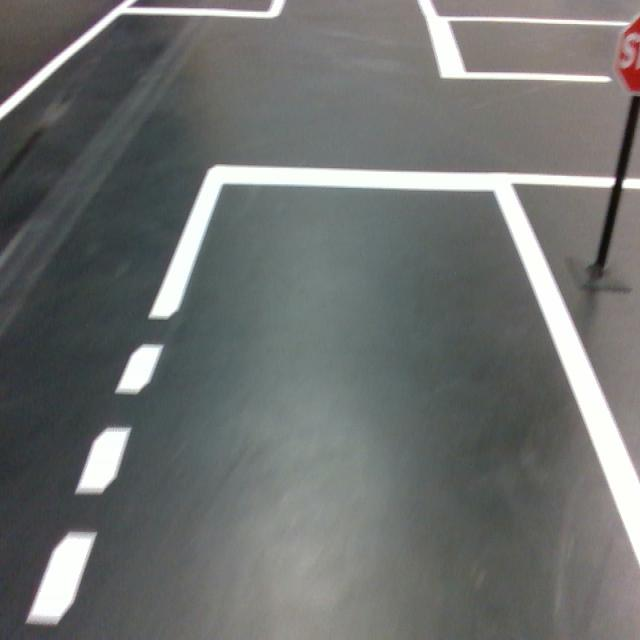stop-sign: (611, 12, 640, 98)
